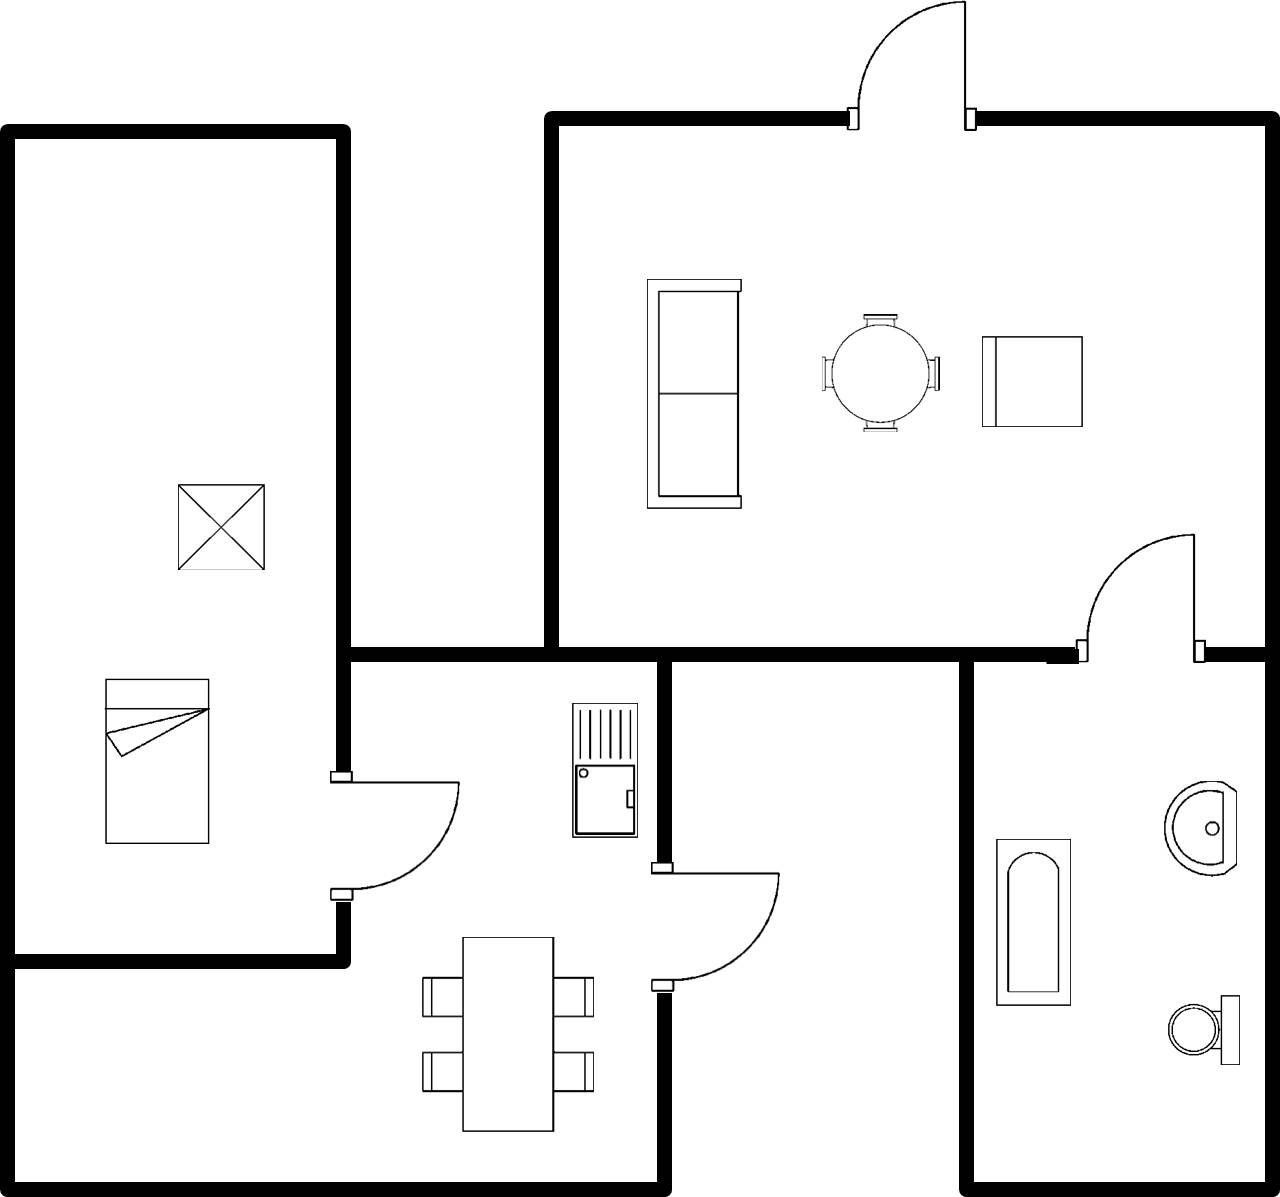bed: (95, 671, 219, 853)
coffee_table: (167, 476, 273, 578)
dining_table: (412, 927, 604, 1140)
large_sink: (1160, 989, 1251, 1076)
large_sofa: (633, 267, 748, 520)
round_table: (813, 306, 955, 442)
sink: (565, 696, 645, 849)
small_sink: (1153, 772, 1245, 886)
small_sofa: (971, 327, 1094, 439)
tub: (987, 828, 1081, 1017)
